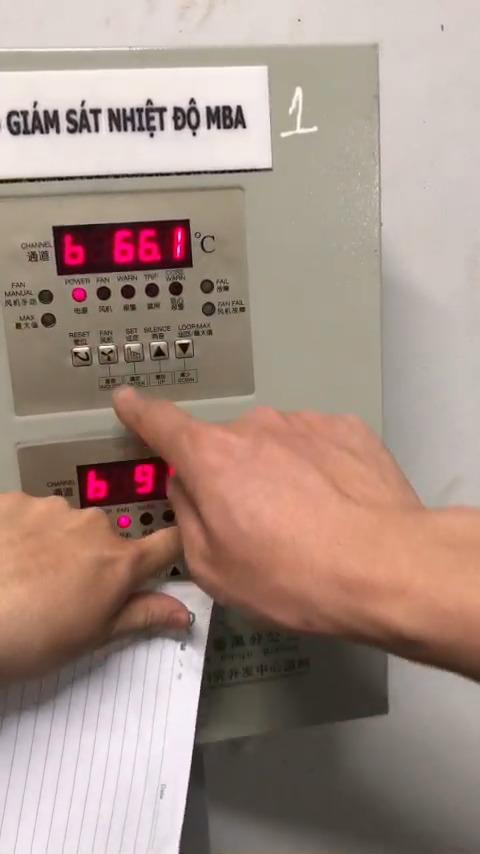led: (198, 278, 215, 295), (144, 282, 160, 299), (168, 281, 184, 297), (120, 284, 136, 300), (38, 290, 54, 306), (41, 313, 57, 329), (71, 287, 87, 302), (200, 301, 215, 317), (96, 286, 111, 301), (117, 516, 132, 531), (140, 513, 155, 527), (162, 511, 176, 525)
